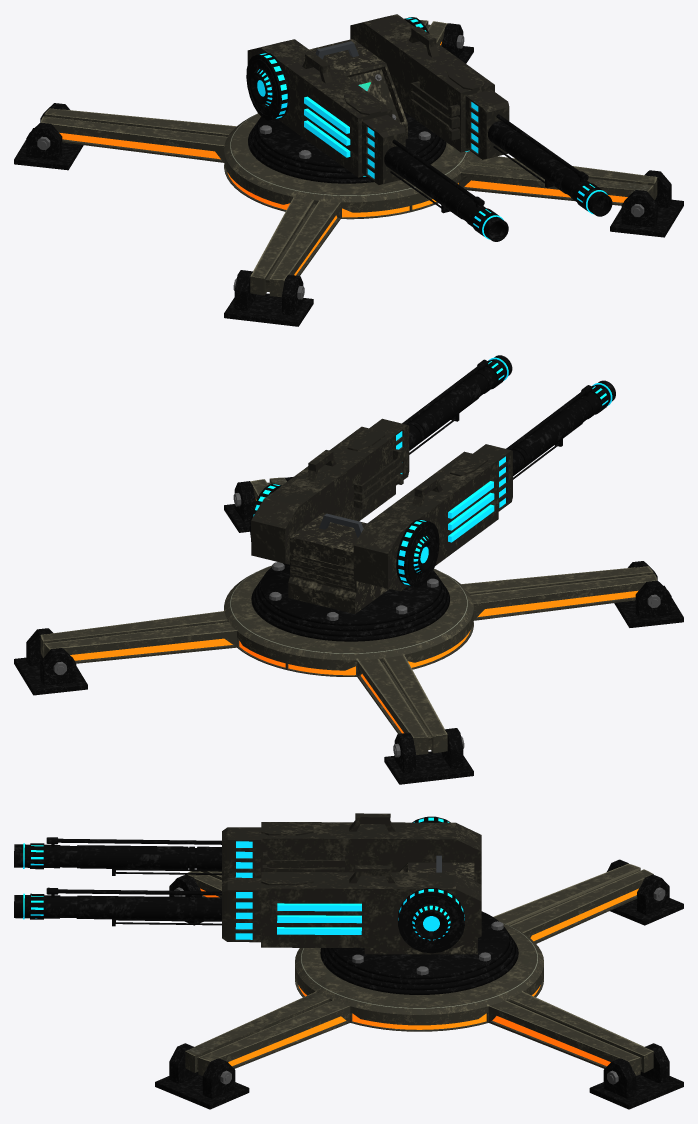
Rendered from cannon.glb.
The picture shows the model from 3 angles, top to bottom: view 1: azimuth 30°, elevation 25°; view 2: azimuth 150°, elevation 25°; view 3: azimuth 270°, elevation 25°; orthographic projection.
Visible parts, largest first — view 1: canon_base_primitive0, pipes_primitive1, pipes_primitive0, canon_rotor_primitive0, canon_base_primitive1, stand2_primitive0, pipes_primitive2, stand1_primitive0, xdc_center_primitive1, stand3_primitive0, stand4_primitive0; view 2: canon_base_primitive0, pipes_primitive1, pipes_primitive0, canon_rotor_primitive0, xdc_center_primitive1, canon_base_primitive1, stand3_primitive0, stand4_primitive0, pipes_primitive2, stand2_primitive0, stand1_primitive0; view 3: pipes_primitive1, canon_base_primitive0, pipes_primitive0, canon_rotor_primitive0, pipes_primitive2, canon_base_primitive1, stand1_primitive0, stand4_primitive0, stand3_primitive0, xdc_center_primitive1, stand2_primitive0.
Boxes of the visible parts, left/top/right/bottom form: canon_base_primitive0: left=40, top=20, right=657, bottom=296; pipes_primitive1: left=247, top=14, right=509, bottom=184; pipes_primitive0: left=246, top=17, right=612, bottom=241; canon_rotor_primitive0: left=248, top=111, right=446, bottom=183; canon_base_primitive1: left=59, top=42, right=627, bottom=275; stand2_primitive0: left=224, top=270, right=313, bottom=326; pipes_primitive2: left=257, top=17, right=607, bottom=239; stand1_primitive0: left=610, top=170, right=683, bottom=237; xdc_center_primitive1: left=309, top=39, right=407, bottom=138; stand3_primitive0: left=14, top=103, right=83, bottom=170; stand4_primitive0: left=441, top=23, right=473, bottom=63; canon_base_primitive0: left=40, top=477, right=657, bottom=754; pipes_primitive1: left=251, top=418, right=512, bottom=591; pipes_primitive0: left=250, top=355, right=615, bottom=587; canon_rotor_primitive0: left=251, top=563, right=449, bottom=641; xdc_center_primitive1: left=288, top=512, right=388, bottom=613; canon_base_primitive1: left=70, top=499, right=638, bottom=733; stand3_primitive0: left=384, top=728, right=473, bottom=784; stand4_primitive0: left=14, top=628, right=87, bottom=695; pipes_primitive2: left=253, top=357, right=612, bottom=585; stand2_primitive0: left=614, top=561, right=683, bottom=627; stand1_primitive0: left=224, top=477, right=292, bottom=532; pipes_primitive1: left=222, top=813, right=481, bottom=948; canon_base_primitive0: left=185, top=863, right=653, bottom=1075; pipes_primitive0: left=14, top=816, right=464, bottom=953; canon_rotor_primitive0: left=320, top=911, right=518, bottom=994; pipes_primitive2: left=23, top=817, right=464, bottom=940; canon_base_primitive1: left=200, top=888, right=638, bottom=1066; stand1_primitive0: left=155, top=1043, right=249, bottom=1109; stand4_primitive0: left=589, top=1043, right=683, bottom=1109; stand3_primitive0: left=607, top=859, right=683, bottom=925; xdc_center_primitive1: left=364, top=862, right=477, bottom=954; stand2_primitive0: left=169, top=874, right=203, bottom=925.
Size of what is drawn, in the model's own units: 7.85 by 2.55 by 9.94.
Materials: 12 (7 with a texture image).
